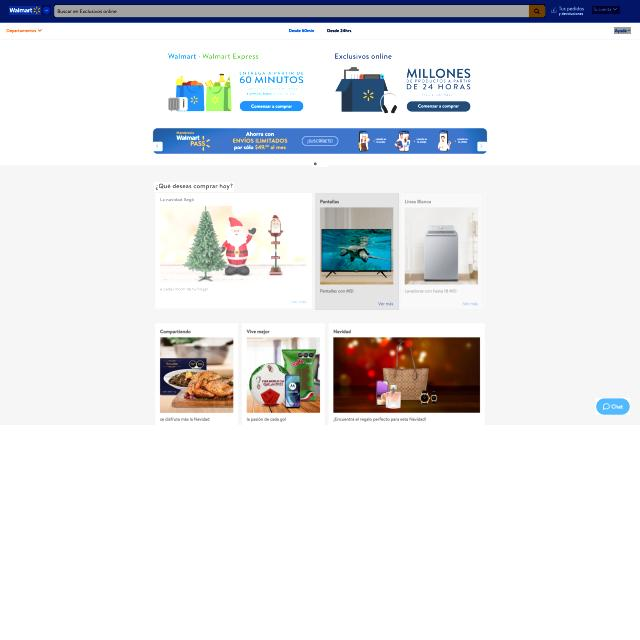CheckBox: (595, 398, 630, 415), (529, 5, 545, 17)
CheckedTextView: (54, 4, 545, 18)
ImageView: (153, 46, 487, 154)
Spinner: (156, 193, 312, 310), (402, 192, 486, 310), (315, 193, 399, 310)
alert: (5, 26, 43, 34), (592, 5, 620, 14), (614, 27, 631, 34)
bag: (0, 0, 640, 39)
breadcrumbs: (154, 182, 234, 192)
carousel: (42, 5, 51, 15)
date picker: (9, 6, 41, 15)
dropdown: (312, 160, 328, 167)
footer: (57, 8, 119, 14)
